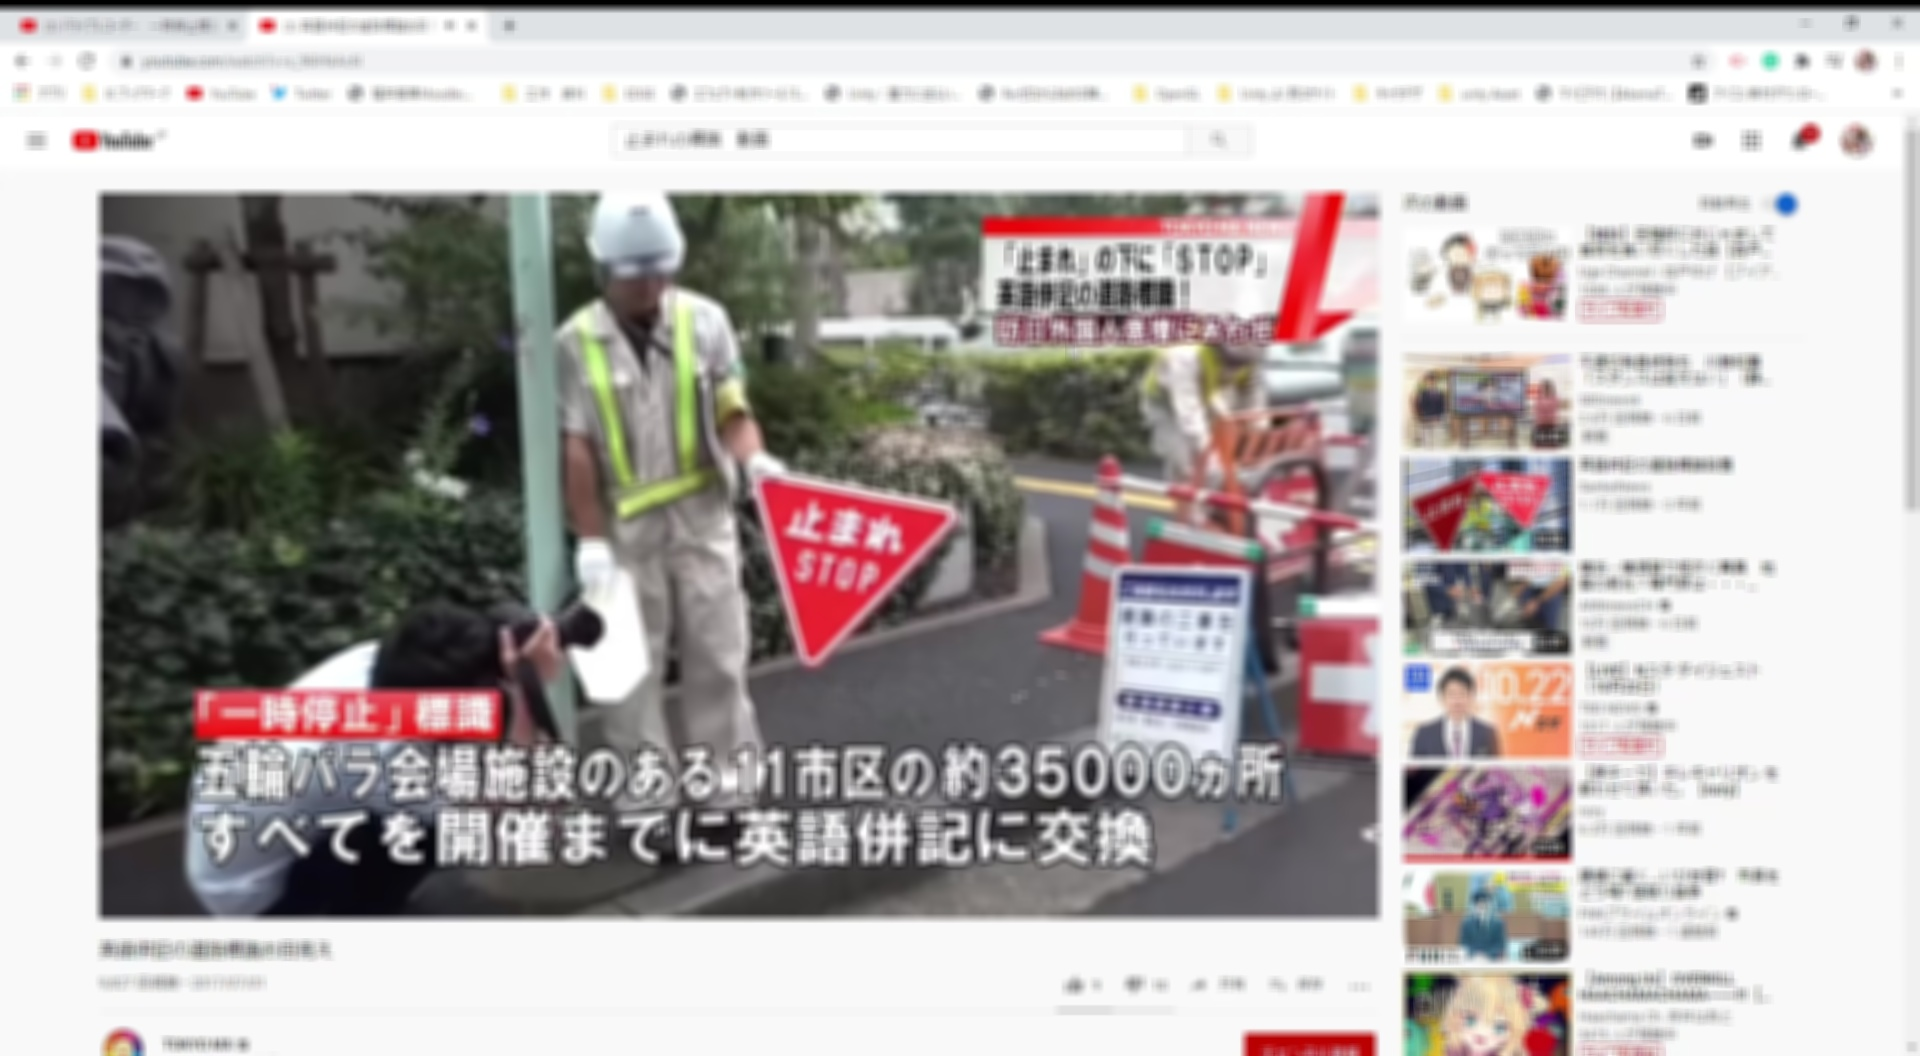Regulatory_sign_triangle: (744, 453, 972, 662)
